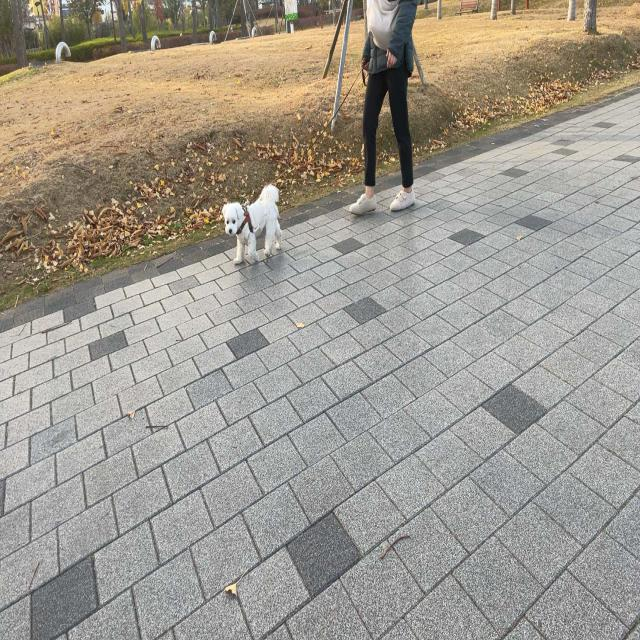Leashed_Dog: (222, 41, 378, 265)
